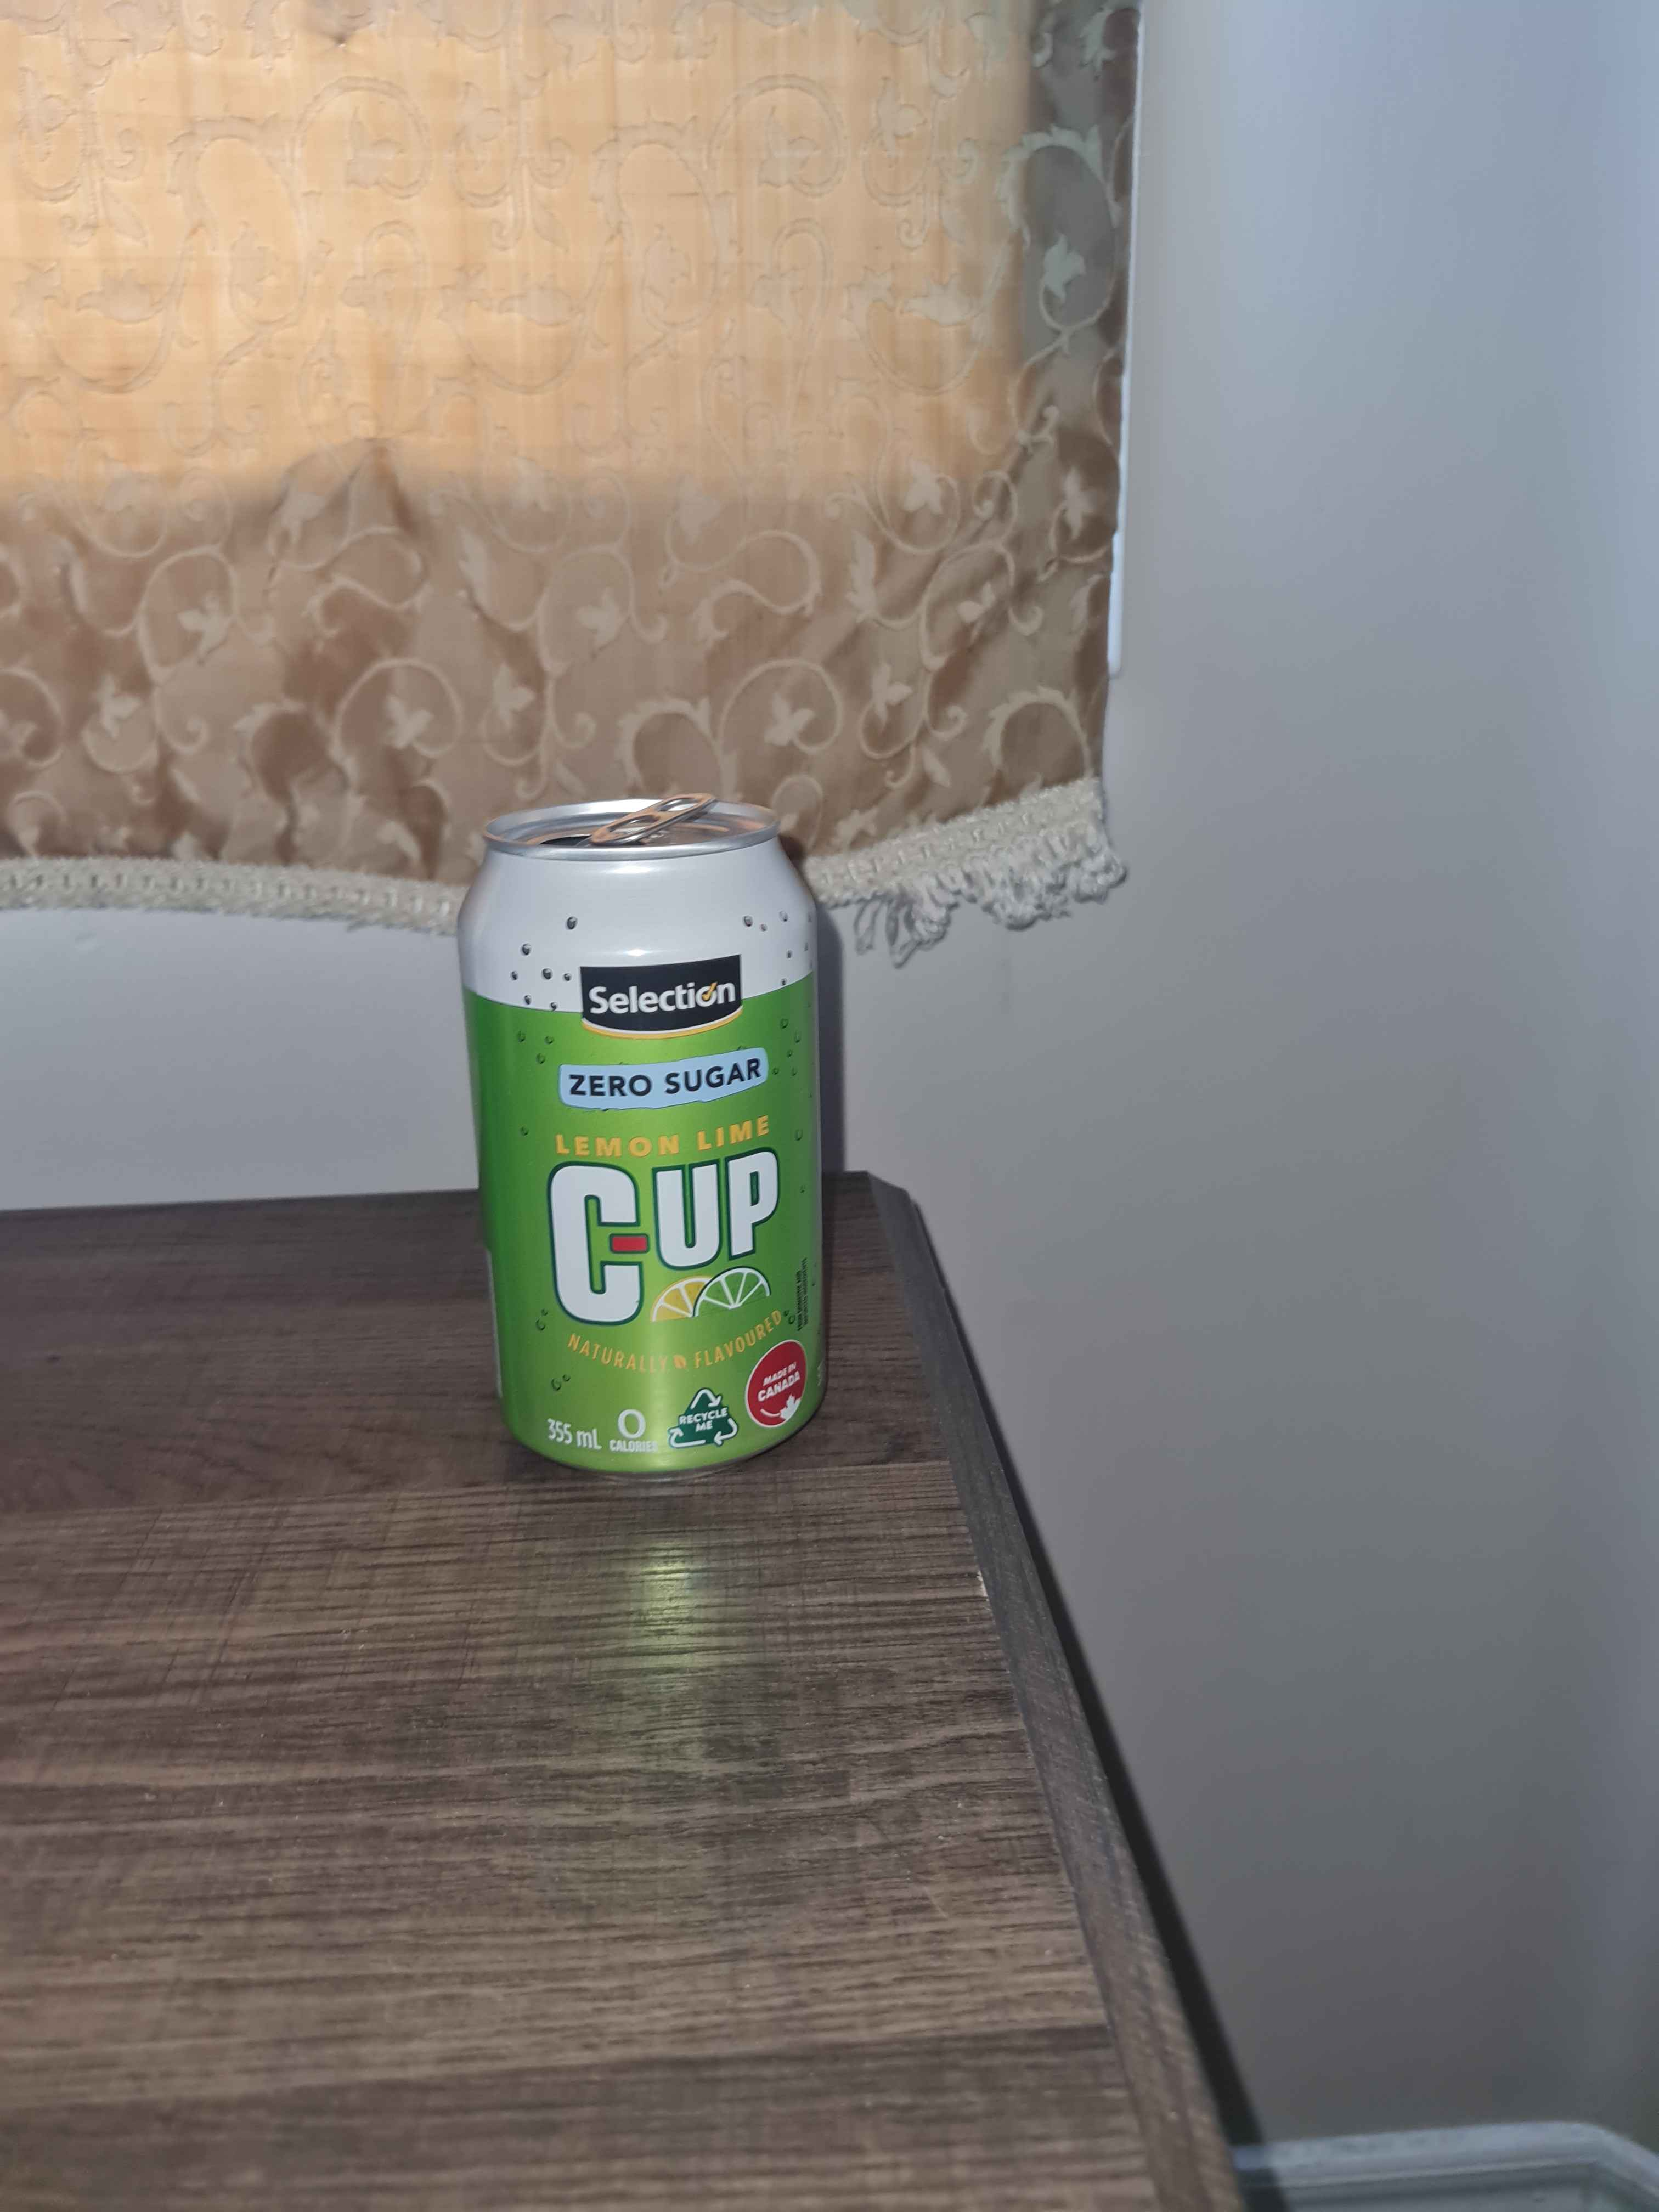soda can: (453, 787, 831, 1486)
